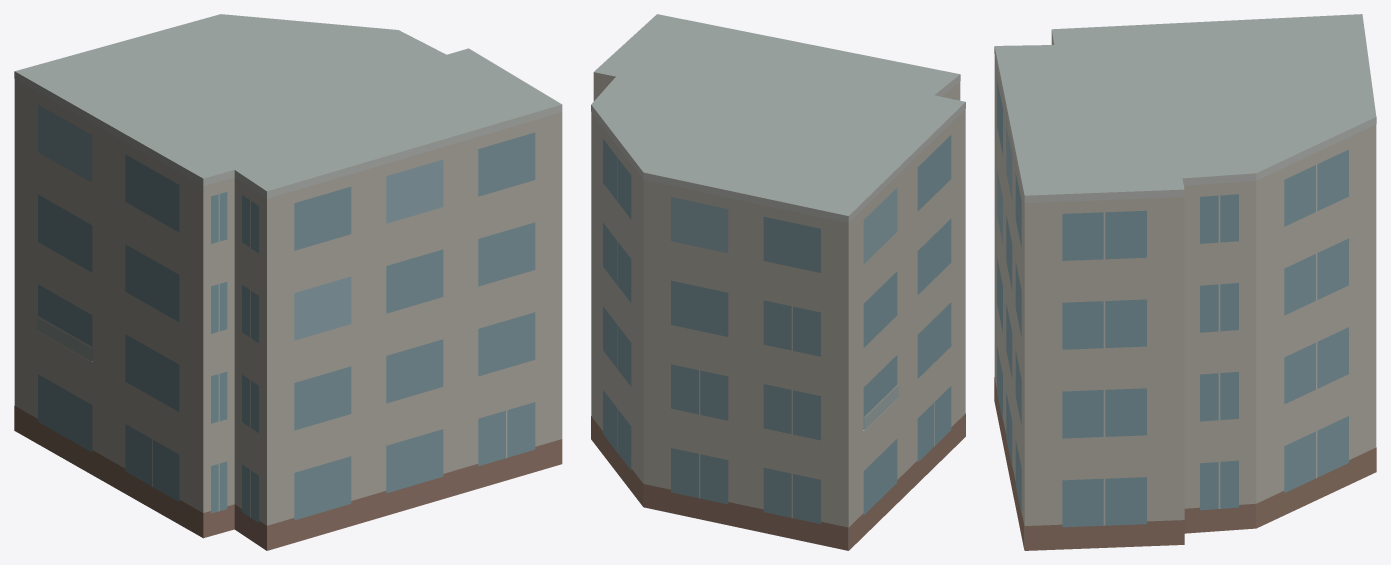
Rendered from survey-upis-32755920.glb.
3 renders of one model, left to right at view 1: azimuth 30°, elevation 25°; view 2: azimuth 150°, elevation 25°; view 3: azimuth 270°, elevation 25°, orthographic. The views are drawn at different scales.
Parts seen in each view (by area): view 1: survey-upis-32755920.tmp; view 2: survey-upis-32755920.tmp; view 3: survey-upis-32755920.tmp.
Part boxes in pixels (box(x1,y1,x2,y2)): survey-upis-32755920.tmp: box(14, 14, 562, 550); survey-upis-32755920.tmp: box(591, 14, 965, 550); survey-upis-32755920.tmp: box(994, 14, 1376, 550).
Bounding box in the file's own units: 12.73 × 11.6 × 11.31.
